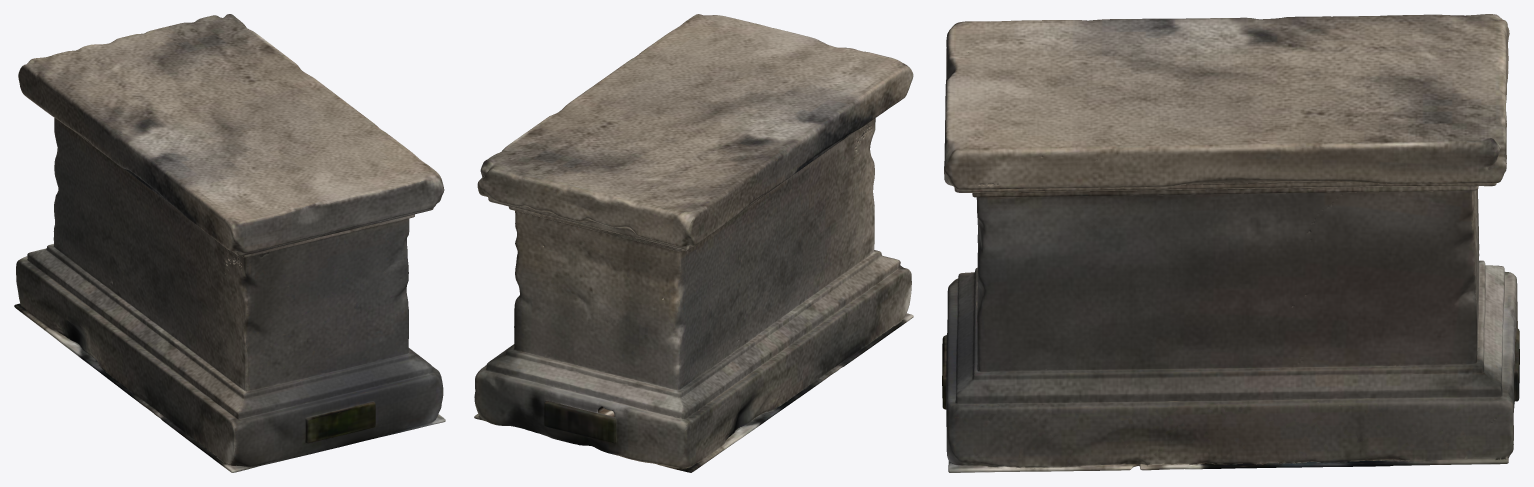
Rendered from pedestal.glb.
3 views of the same model, side by side, from view 1: azimuth 30°, elevation 25°; view 2: azimuth 150°, elevation 25°; view 3: azimuth 270°, elevation 25° (orthographic). The views are drawn at different scales.
Parts seen in each view (by area): view 1: world; view 2: world; view 3: world.
Part boxes in pixels (bbox=[...]): world: bbox=[14, 14, 445, 472]; world: bbox=[474, 14, 913, 472]; world: bbox=[942, 14, 1519, 472].
Bounding box in the file's own units: 0.5579 × 0.6329 × 1.
1 material, 1 textured.
